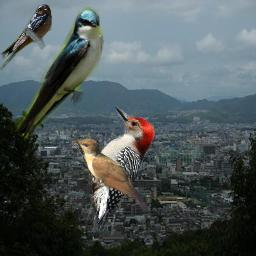Cuckoo: (73, 138, 148, 212)
Swallow: (15, 7, 105, 143), (0, 4, 52, 70)
Woodpecker: (67, 103, 158, 237)
